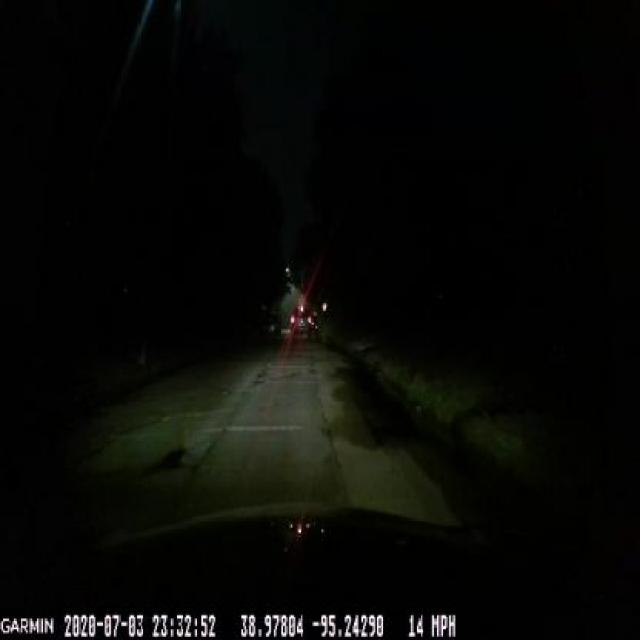Pothole: (132, 436, 202, 489)
